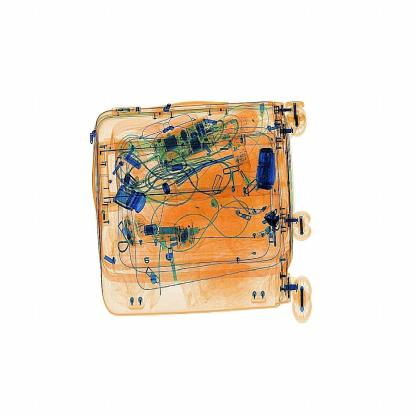scissors: (249, 138, 292, 199)
